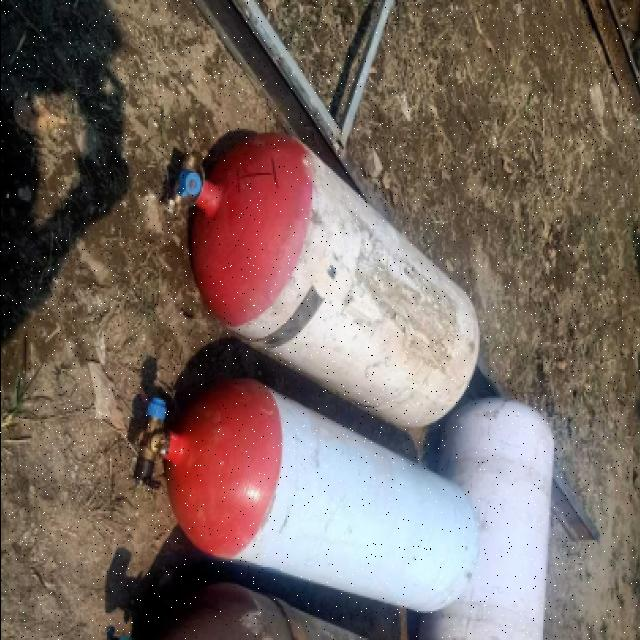cylinder: (164, 132, 480, 432), (130, 381, 480, 613)
